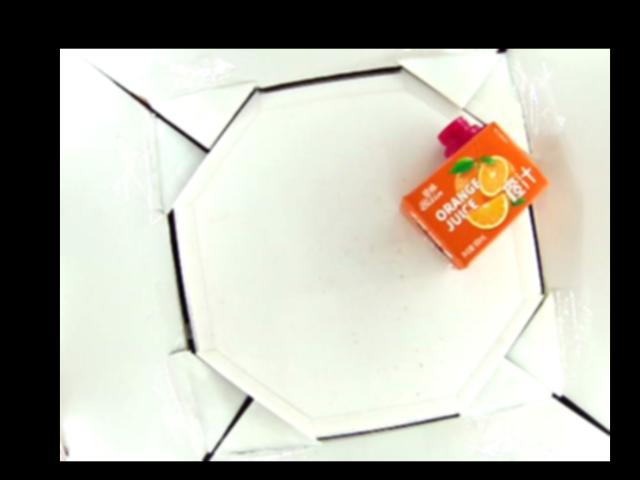Bottle: (396, 113, 550, 273)
